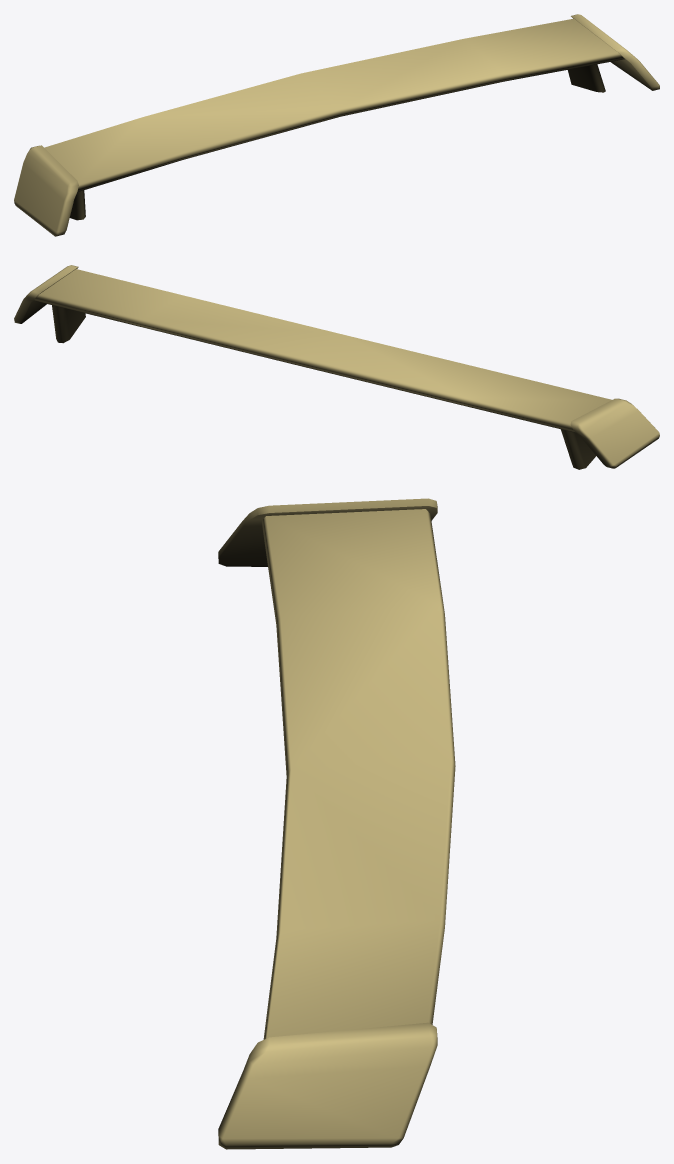
Rendered from MX5_Spoiler02_Duco.fbx.
3 views of the same model, one above another, from view 1: azimuth 30°, elevation 25°; view 2: azimuth 150°, elevation 25°; view 3: azimuth 270°, elevation 25° (orthographic). The views are drawn at different scales.
Visible parts, largest first — view 1: MX5_Spoiler02_Duco; view 2: MX5_Spoiler02_Duco; view 3: MX5_Spoiler02_Duco.
Part boxes in pixels (box(x1,y1,x2,y2)): MX5_Spoiler02_Duco: box(14, 14, 659, 236); MX5_Spoiler02_Duco: box(14, 265, 659, 469); MX5_Spoiler02_Duco: box(218, 498, 455, 1149).
Bounding box in the file's own units: 118 × 11.45 × 19.99.
